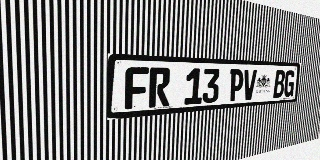1: (184, 68, 203, 105)
3: (202, 68, 220, 103)
B: (273, 70, 286, 98)
F: (125, 67, 149, 110)
G: (283, 70, 295, 97)
P: (228, 69, 244, 101)
R: (149, 67, 171, 108)
V: (242, 69, 257, 100)
